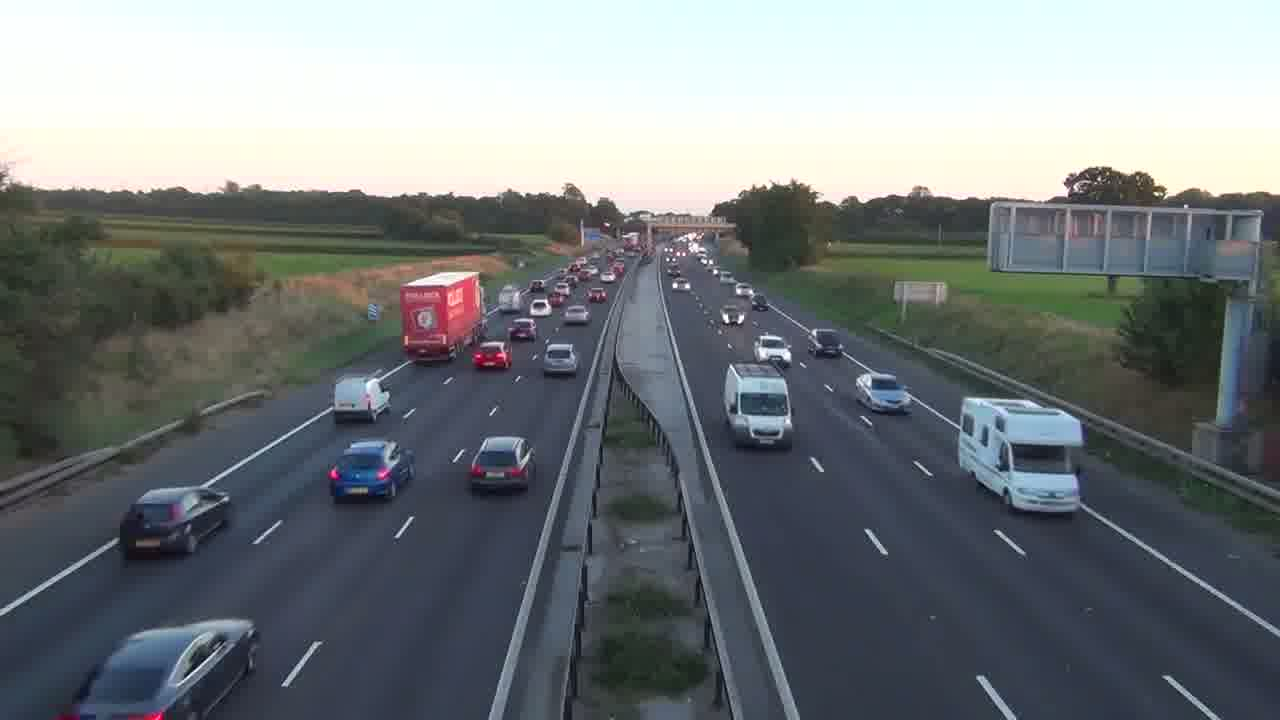car: (55, 617, 261, 718), (118, 486, 232, 560), (326, 439, 415, 502), (466, 436, 535, 493), (855, 372, 911, 414), (753, 333, 792, 371), (542, 342, 578, 377), (472, 341, 512, 370), (508, 318, 538, 342), (562, 304, 591, 325)
truck: (957, 397, 1087, 516), (400, 270, 484, 363), (722, 361, 794, 449), (333, 375, 392, 424)
